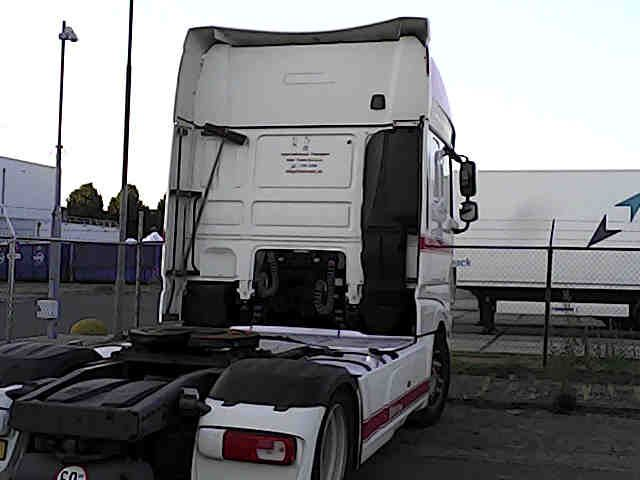whitevan: (11, 18, 476, 479), (454, 170, 639, 329), (0, 337, 127, 479)
